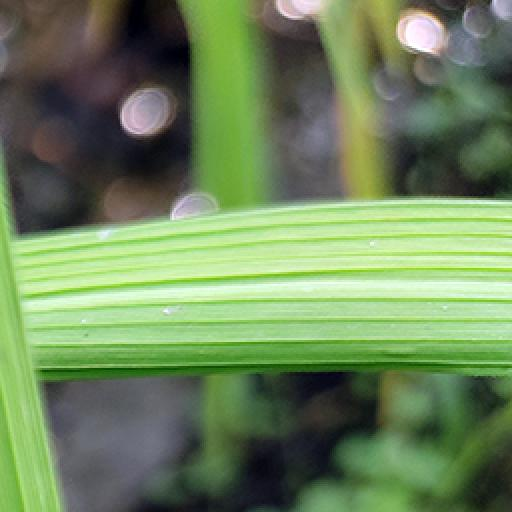Healthy Leaf: (4, 200, 510, 371)
